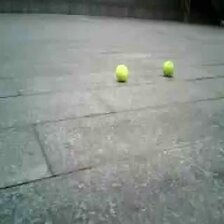tennis: (161, 60, 175, 76), (116, 64, 129, 79)
